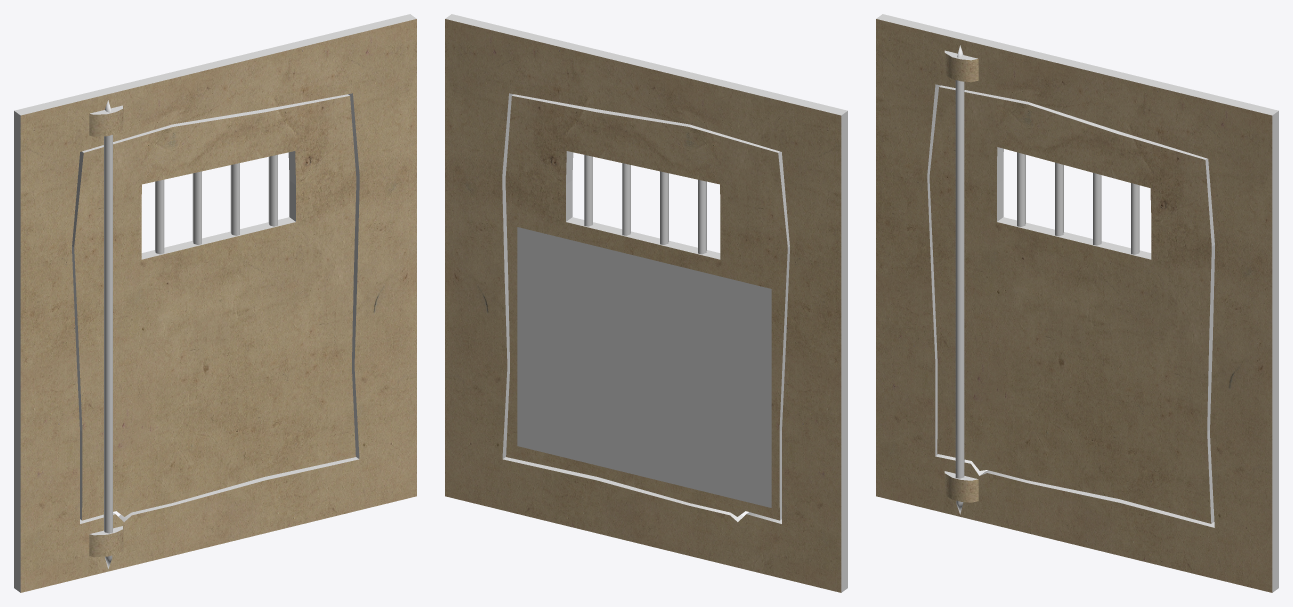
The model's file is Cardboard_Door_01.fbx.
The picture shows the model from 3 angles, left to right: view 1: azimuth 30°, elevation 25°; view 2: azimuth 150°, elevation 25°; view 3: azimuth 330°, elevation 25°; orthographic projection.
Visible parts, largest first — view 1: Cardboard_DoorPanel_01, Cardboard_DoorFrame_01; view 2: Cardboard_DoorPanel_01, Cardboard_DoorFrame_01; view 3: Cardboard_DoorPanel_01, Cardboard_DoorFrame_01.
Part boxes in pixels (left/top/right/bottom): Cardboard_DoorPanel_01: left=72, top=94, right=356, bottom=568; Cardboard_DoorFrame_01: left=14, top=14, right=416, bottom=592; Cardboard_DoorPanel_01: left=505, top=94, right=789, bottom=520; Cardboard_DoorFrame_01: left=445, top=14, right=847, bottom=592; Cardboard_DoorPanel_01: left=929, top=45, right=1214, bottom=523; Cardboard_DoorFrame_01: left=876, top=14, right=1278, bottom=592.
Bounding box in the file's own units: 182 × 209 × 9.55.
